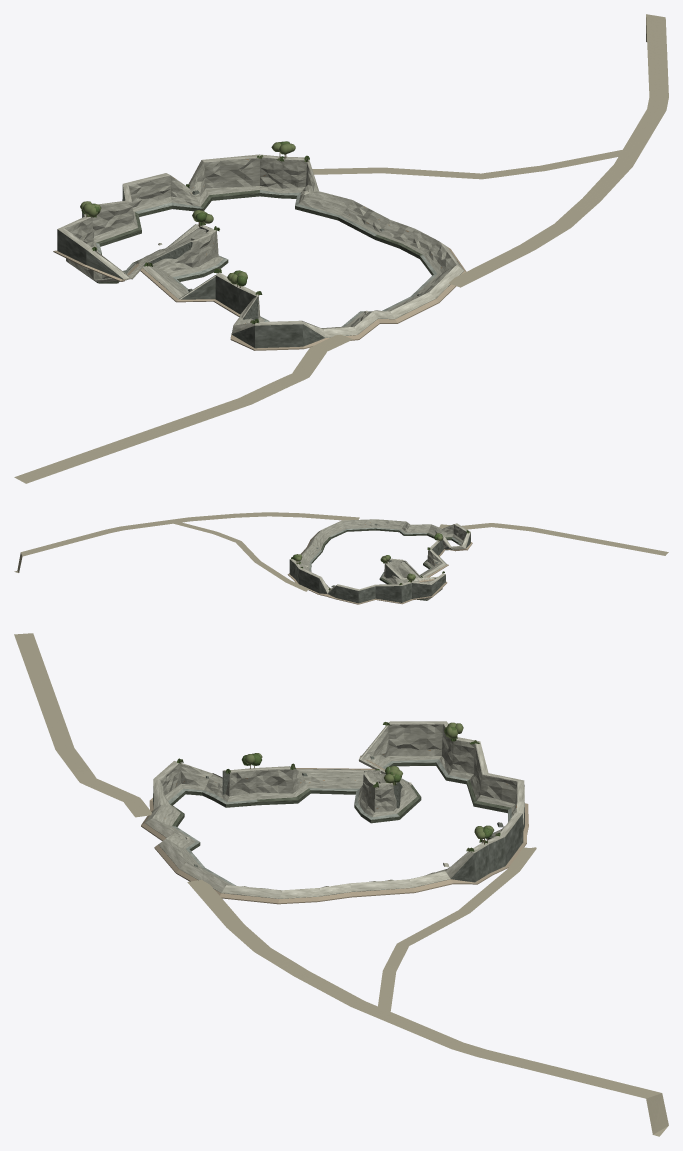
3 views of the same model, one above another, from view 1: azimuth 30°, elevation 25°; view 2: azimuth 150°, elevation 25°; view 3: azimuth 270°, elevation 25° (orthographic). The views are drawn at different scales.
Parts seen in each view (by area): view 1: ta-pa-near; view 2: ta-pa-near; view 3: ta-pa-near.
Boxes of the visible parts, left/top/right/bottom form: ta-pa-near: left=14, top=14, right=668, bottom=483; ta-pa-near: left=14, top=512, right=668, bottom=604; ta-pa-near: left=14, top=633, right=668, bottom=1136.
Bounding box in the file's own units: 285 × 23.96 × 169.
Materials: 1 (1 with a texture image).
